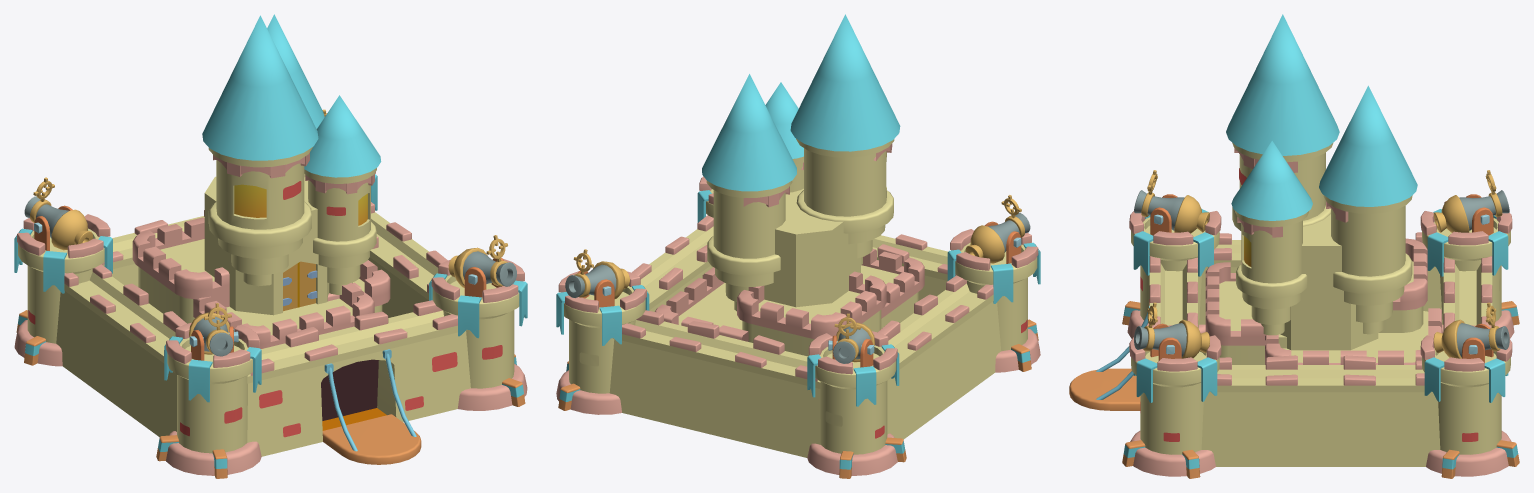
Rendered from Castle_05_lvl.fbx.
3 views of the same model, side by side, from view 1: azimuth 30°, elevation 25°; view 2: azimuth 150°, elevation 25°; view 3: azimuth 270°, elevation 25° (orthographic). The views are drawn at different scales.
Visible parts, largest first — view 1: Plane.019; view 2: Plane.019; view 3: Plane.019.
Boxes of the visible parts, bbox=[...] form: Plane.019: bbox=[14, 14, 527, 478]; Plane.019: bbox=[556, 14, 1040, 478]; Plane.019: bbox=[1069, 14, 1519, 478].
Bounding box in the file's own units: 1756 × 1746 × 1953.
